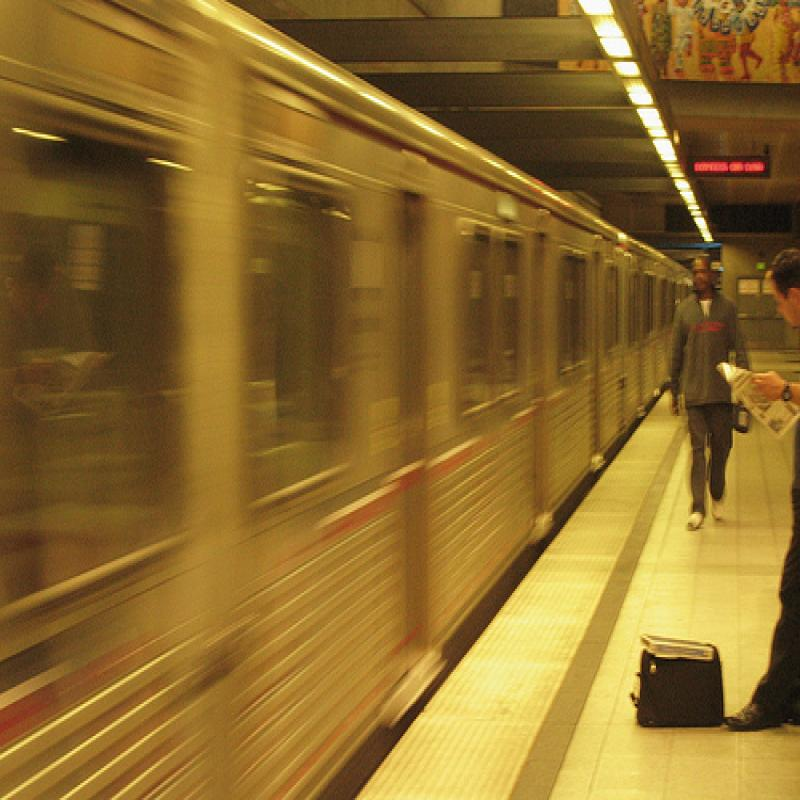train: (1, 1, 697, 799)
